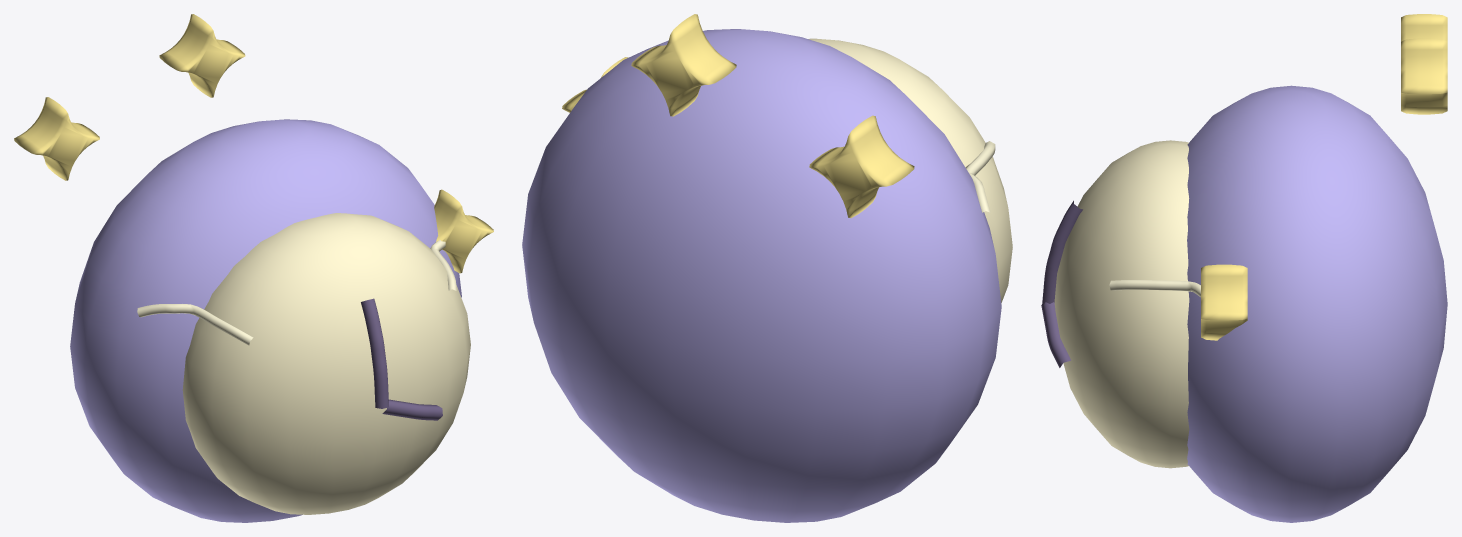
File: decor_4_star.glb
3 views of the same model, side by side, from view 1: azimuth 30°, elevation 25°; view 2: azimuth 150°, elevation 25°; view 3: azimuth 270°, elevation 25° (orthographic). The views are drawn at different scales.
Parts seen in each view (by area): view 1: decor_4_star; view 2: decor_4_star; view 3: decor_4_star.
Part boxes in pixels (x1,y1,x2,y2): decor_4_star: [14, 14, 493, 522]; decor_4_star: [522, 14, 1012, 522]; decor_4_star: [1041, 14, 1447, 522].
Bounding box in the file's own units: 8.13 × 9.37 × 7.44.
